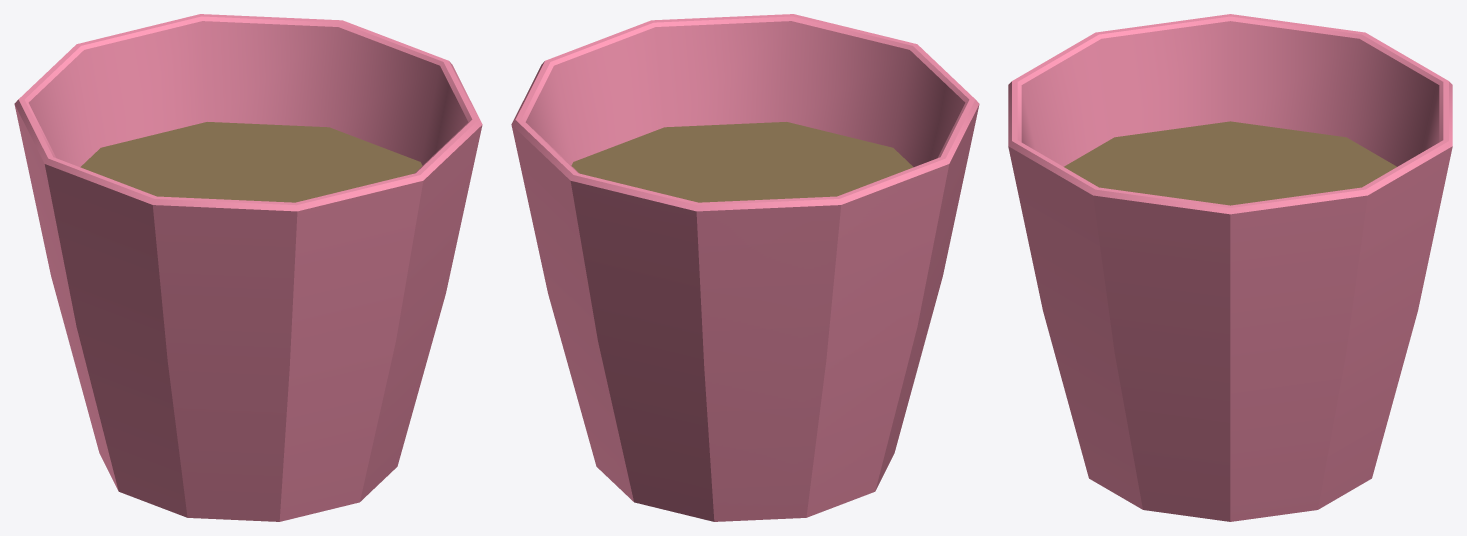
File: potrose.FBX
3 views of the same model, side by side, from view 1: azimuth 30°, elevation 25°; view 2: azimuth 150°, elevation 25°; view 3: azimuth 270°, elevation 25° (orthographic).
Parts seen in each view (by area): view 1: Cylinder001; view 2: Cylinder001; view 3: Cylinder001.
Part boxes in pixels (bbox=[...]): Cylinder001: bbox=[14, 14, 482, 521]; Cylinder001: bbox=[511, 14, 979, 521]; Cylinder001: bbox=[1008, 14, 1452, 521].
Bounding box in the file's own units: 34.24 × 28.12 × 32.56.
